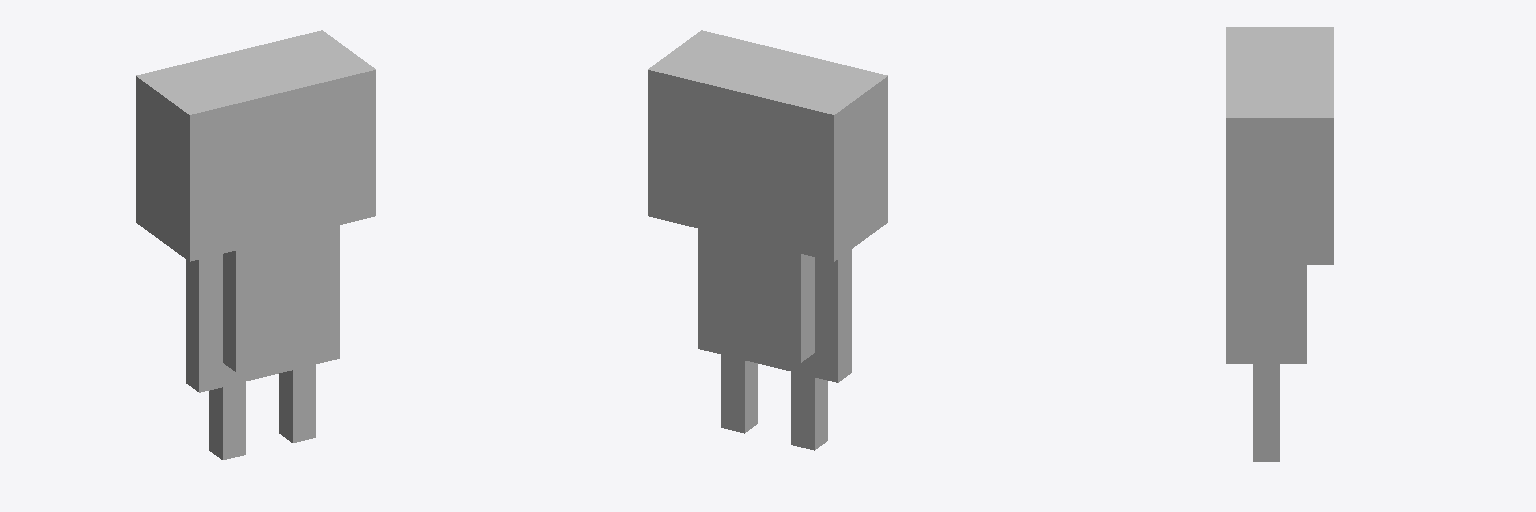
The model's file is Character.obj.
3 views of the same model, side by side, from view 1: azimuth 30°, elevation 25°; view 2: azimuth 150°, elevation 25°; view 3: azimuth 270°, elevation 25° (orthographic).
Parts seen in each view (by area): view 1: object 1; view 2: object 1; view 3: object 1.
Boxes of the visible parts, x1=… form: object 1: x1=136, y1=30, x2=375, y2=459; object 1: x1=648, y1=30, x2=887, y2=450; object 1: x1=1226, y1=27, x2=1333, y2=461.
Size of the model in its own units: 0.8 by 1.5 by 0.4.